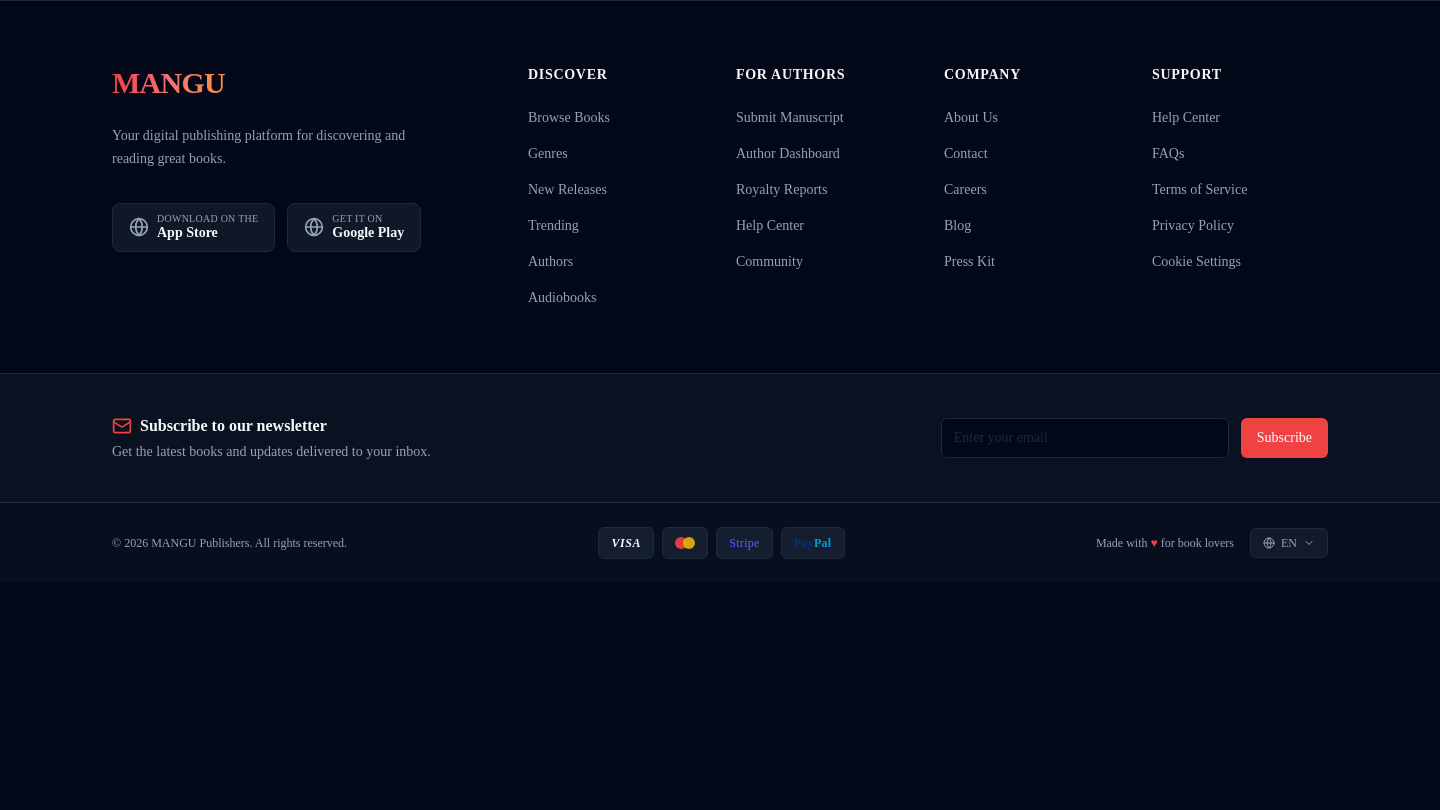
Scenario: Footer newsletter form (P0-013) › posts to /api/newsletter and shows the server message only after the backend confirms
Type "reader@example.com" into the field named "email address for newsletter" at (1085, 438), box 941,418 -> 1229,458
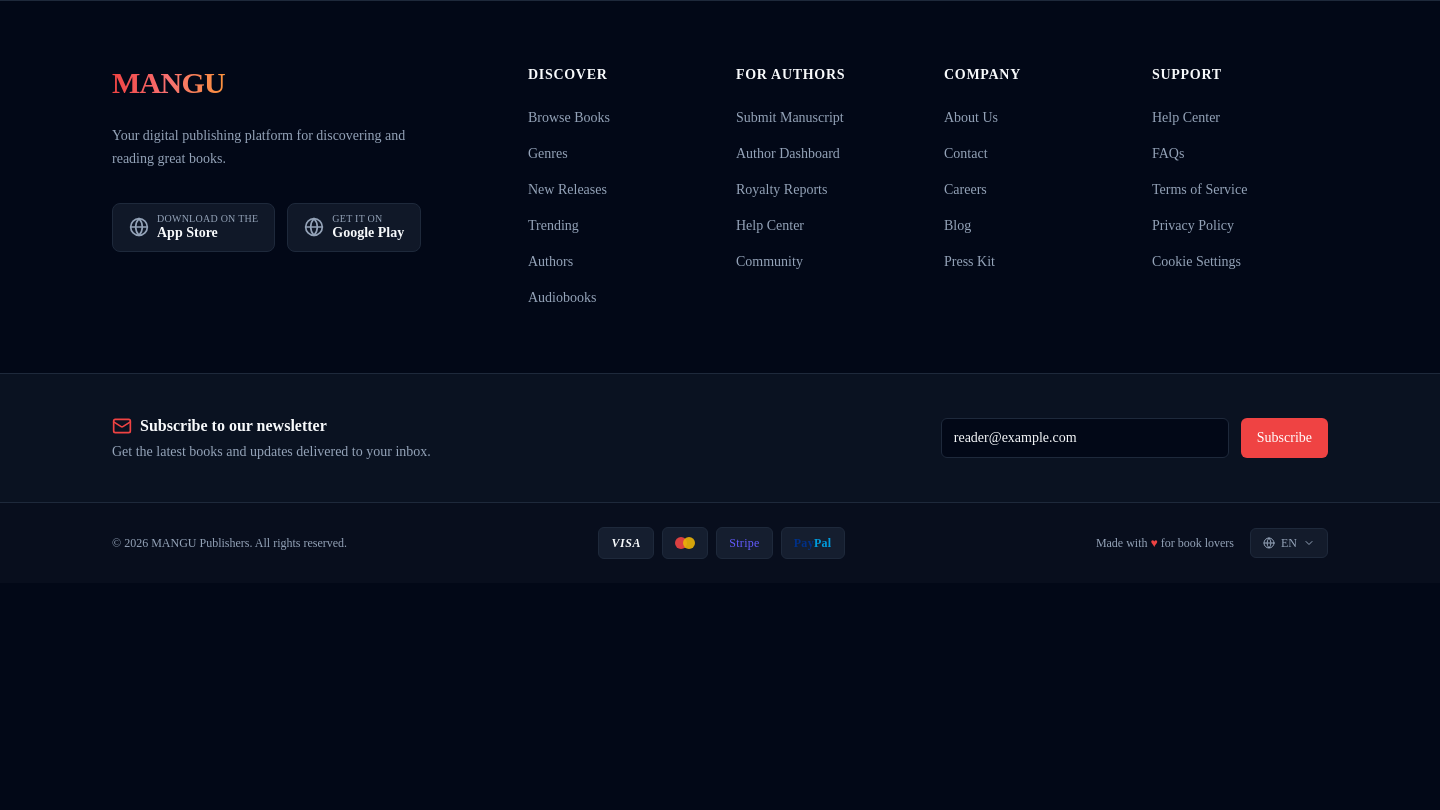
Click the button "Subscribe" at (1284, 438), box 1241,418 -> 1328,458
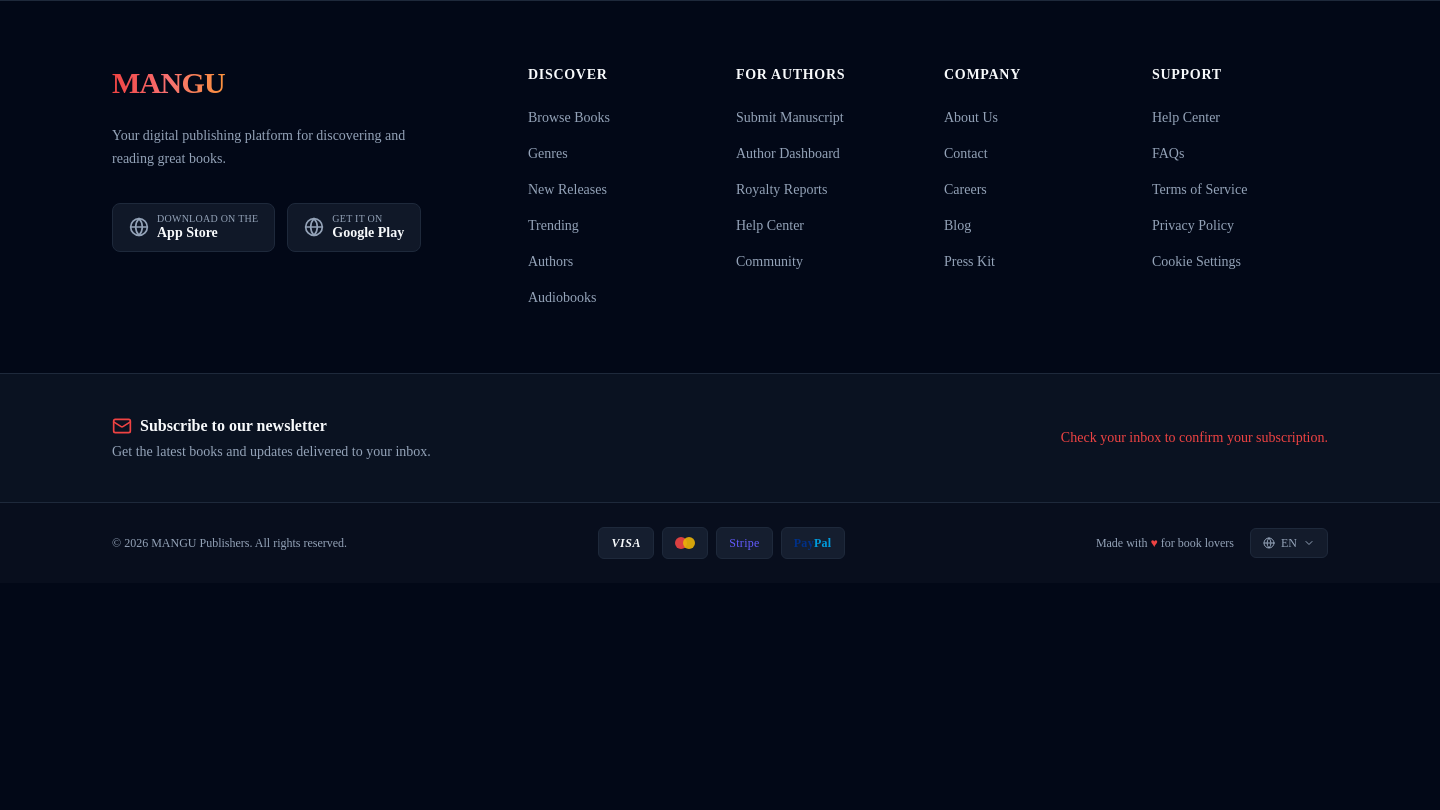
Now the message reads "Check your inbox to confirm your subscription.", box 1061,430 -> 1328,445
